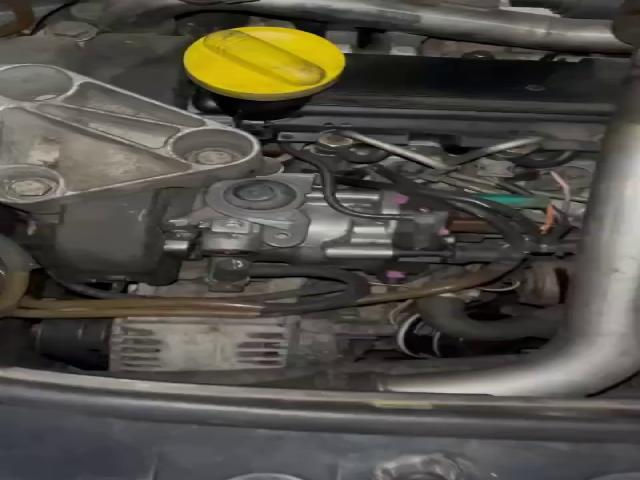alternator: (110, 317, 297, 371)
high_pressure_pump: (199, 190, 455, 283)
